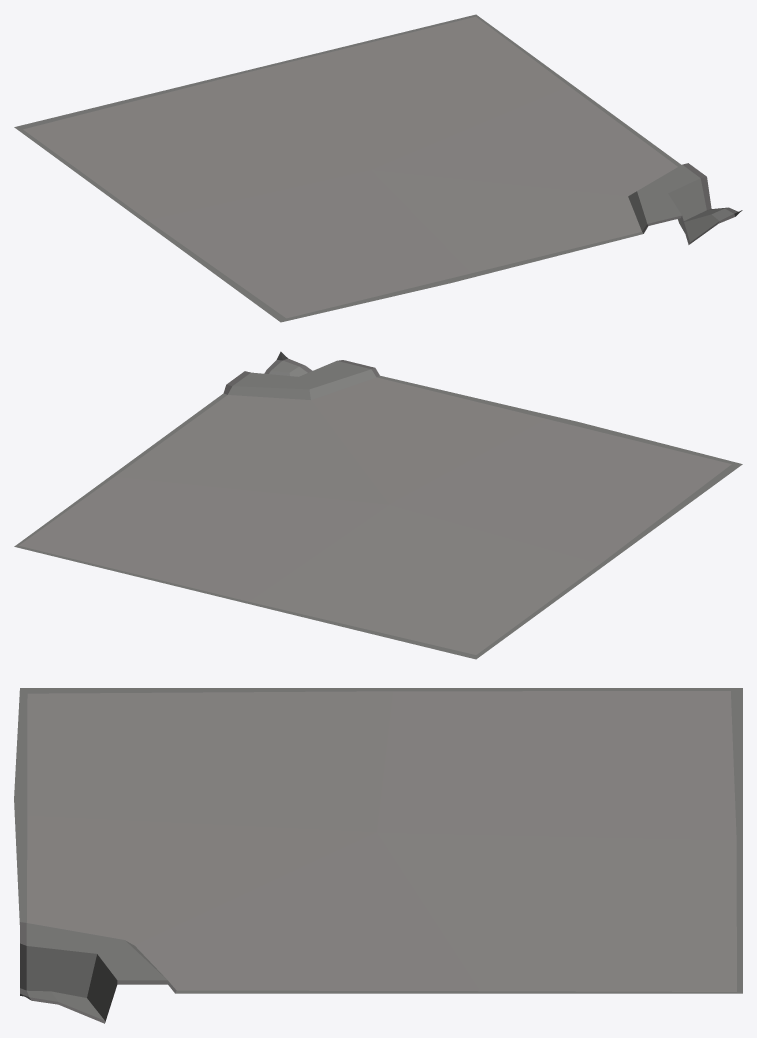
Rendered from SM_Gen_Env_Sidewalk_Corner_02.fbx.
3 renders of one model, top to bottom at view 1: azimuth 30°, elevation 25°; view 2: azimuth 150°, elevation 25°; view 3: azimuth 270°, elevation 25°, orthographic. The views are drawn at different scales.
Parts seen in each view (by area): view 1: SM_Gen_Env_Sidewalk_Corner_02; view 2: SM_Gen_Env_Sidewalk_Corner_02; view 3: SM_Gen_Env_Sidewalk_Corner_02.
Boxes of the visible parts, <box> form: SM_Gen_Env_Sidewalk_Corner_02: <box>14,14,742,322</box>; SM_Gen_Env_Sidewalk_Corner_02: <box>14,351,742,659</box>; SM_Gen_Env_Sidewalk_Corner_02: <box>14,688,742,1023</box>.
Size of the model in its own units: 250 by 15 by 252.
